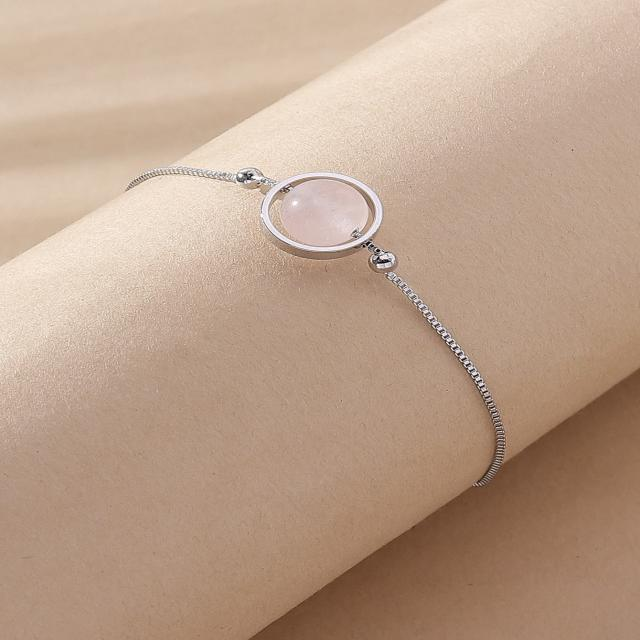bracelet: (69, 81, 640, 532)
